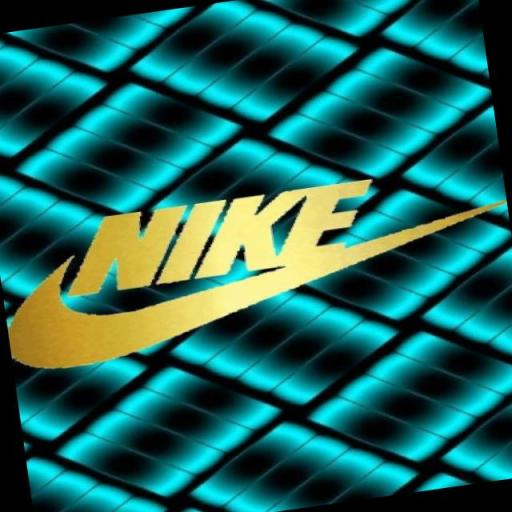Nike: (0, 194, 512, 377), (54, 172, 396, 303)
